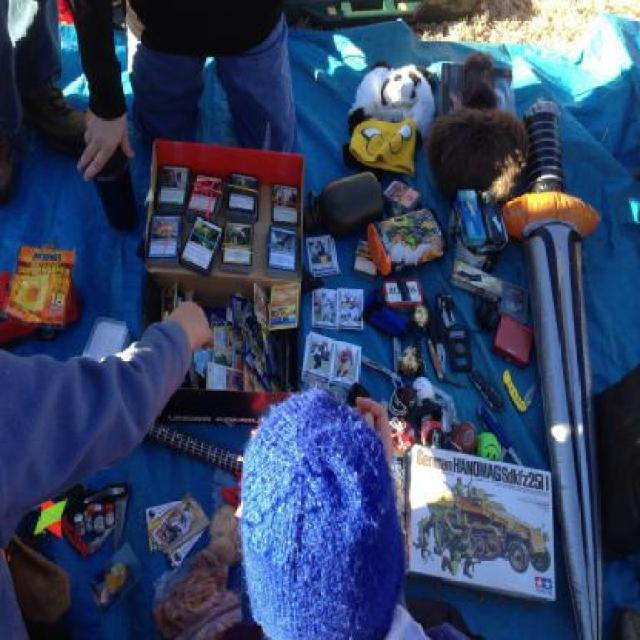Person: (0, 295, 218, 638), (229, 372, 483, 638), (72, 0, 324, 178), (0, 0, 91, 222), (442, 520, 478, 578), (412, 509, 442, 551), (438, 504, 460, 544), (448, 474, 468, 495), (470, 485, 482, 503)
